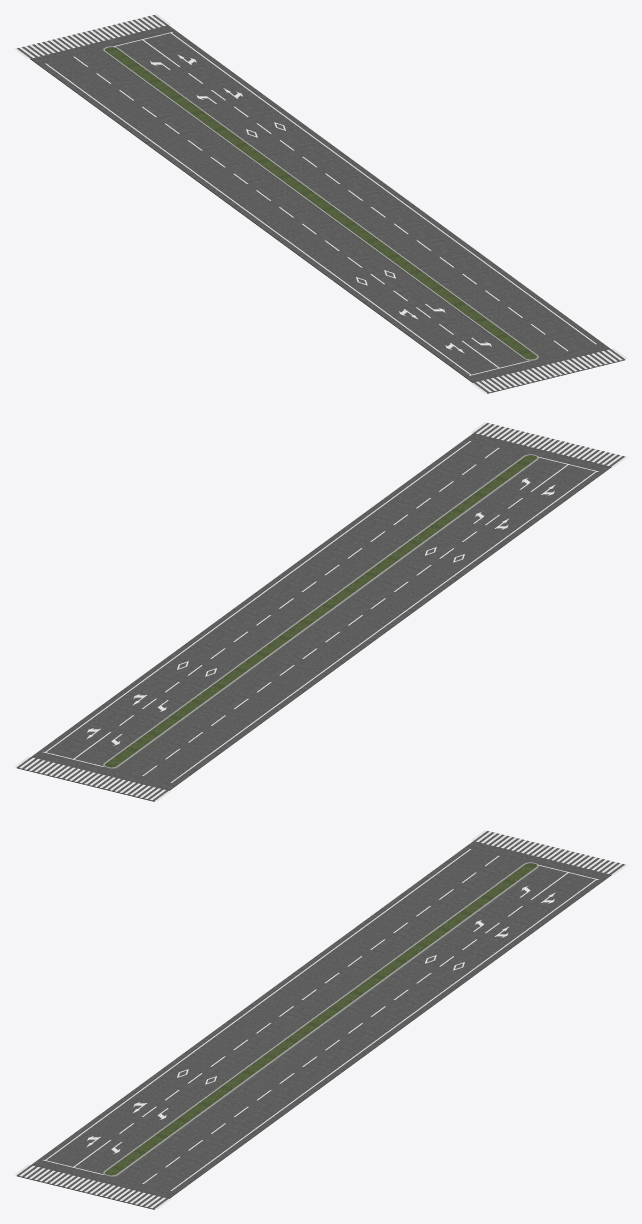
File: bidirectionroad.gltf
3 renders of one model, top to bottom at view 1: azimuth 30°, elevation 25°; view 2: azimuth 150°, elevation 25°; view 3: azimuth 330°, elevation 25°, orthographic.
Parts seen in each view (by area): view 1: 道路16; view 2: 道路16; view 3: 道路16.
Boxes of the visible parts, x1,y1,x2,y2 form: 道路16: (14, 14, 627, 393); 道路16: (14, 422, 627, 801); 道路16: (14, 830, 627, 1209).
Size of the model in its own units: 22.8 by 0.2233 by 130.
Materials: 4 (2 with a texture image).
